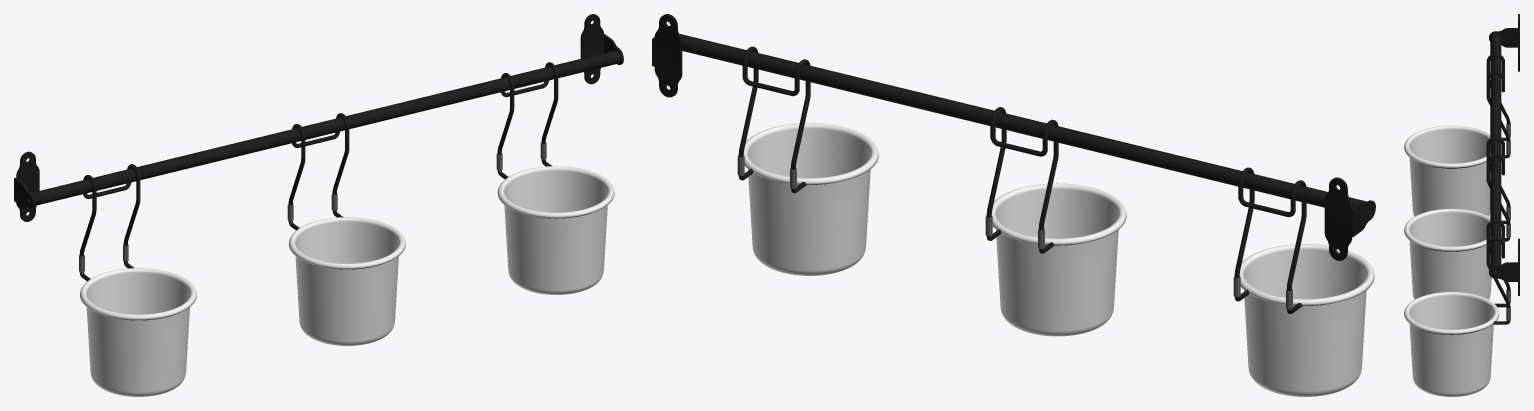
The model's file is 096 - stand divari jadid meshki goldan sefid.glb.
3 views of the same model, side by side, from view 1: azimuth 30°, elevation 25°; view 2: azimuth 150°, elevation 25°; view 3: azimuth 270°, elevation 25° (orthographic). The views are drawn at different scales.
Visible parts, largest first — view 1: Group#5 [160590], Group#3 [160578], Group#30 [160540], Group#160 [160565], [12216] (×3), [3059], [2176]; view 2: Group#3 [160578], Group#5 [160590], Group#30 [160540], Group#160 [160565], [12216] (×3), [3059], [2176], Group#159 [3595]; view 3: Group#5 [160590], Group#30 [160540], Group#3 [160578], Group#160 [160565], [12216] (×3), Group#159 [3595] (×2).
Boxes of the visible parts, x1,y1,x2,y2 form: Group#5 [160590]: [497, 166, 614, 294]; Group#3 [160578]: [288, 217, 405, 345]; Group#30 [160540]: [80, 268, 196, 396]; Group#160 [160565]: [32, 50, 620, 205]; [12216] (×3): [79, 62, 588, 320]; [3059]: [580, 14, 603, 84]; [2176]: [16, 151, 39, 221]; Group#3 [160578]: [991, 183, 1126, 336]; Group#5 [160590]: [743, 123, 878, 275]; Group#30 [160540]: [1239, 244, 1374, 396]; Group#160 [160565]: [679, 33, 1366, 207]; [12216] (×3): [738, 46, 1330, 313]; [3059]: [654, 14, 682, 97]; [2176]: [1324, 177, 1352, 260]; Group#159 [3595]: [1350, 200, 1375, 236]; Group#5 [160590]: [1404, 292, 1499, 396]; Group#30 [160540]: [1404, 125, 1490, 216]; Group#3 [160578]: [1404, 208, 1491, 299]; Group#160 [160565]: [1490, 33, 1501, 273]; [12216] (×3): [1418, 53, 1510, 334]; Group#159 [3595] (×2): [1489, 28, 1519, 281].
Size of the model in its own units: 0.806 by 0.2792 by 0.168.
Materials: 5 (3 with a texture image).
